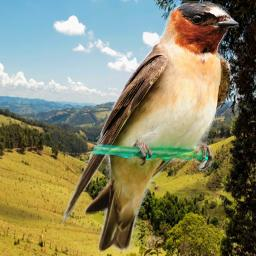Swallow: (62, 1, 239, 253)
